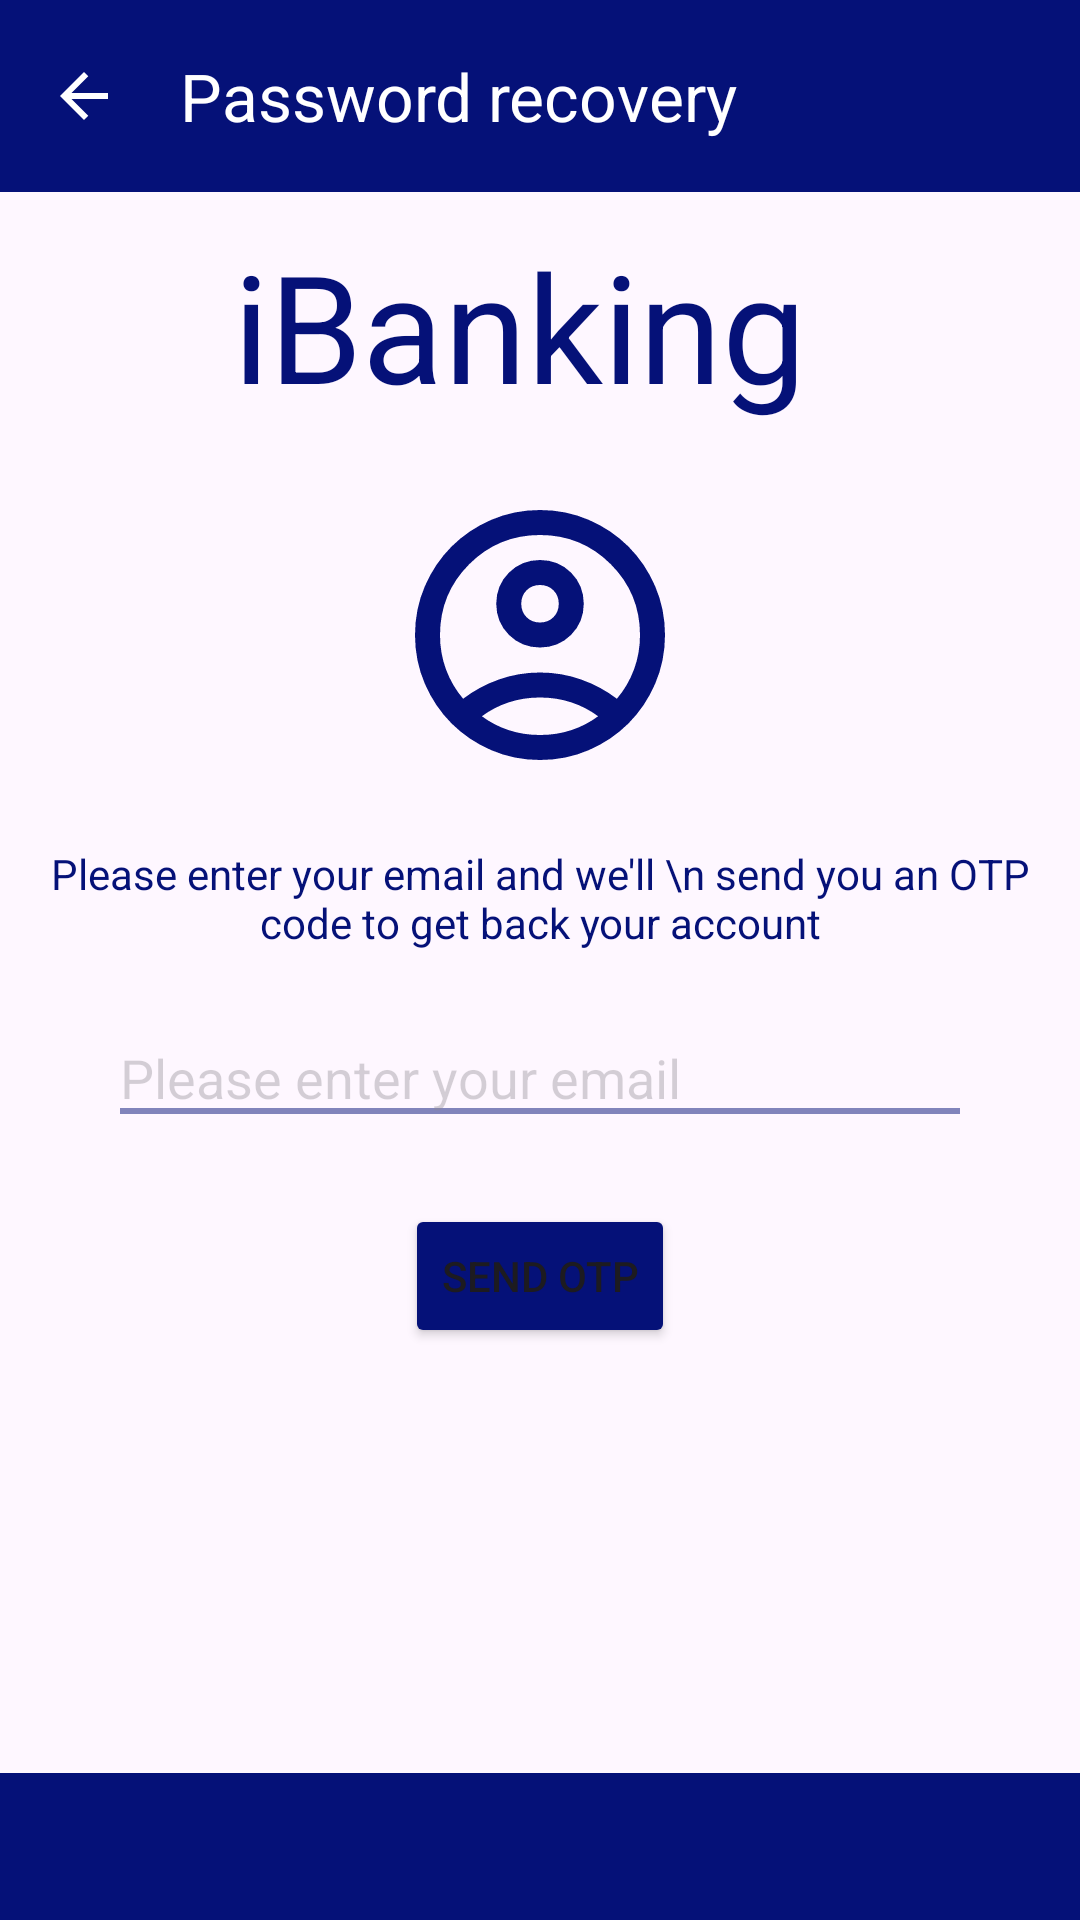

Icons on this 1080x1920 Android screen, each with its box as (x1, y1, x2, y2):
account circle: (415, 510, 665, 760)
